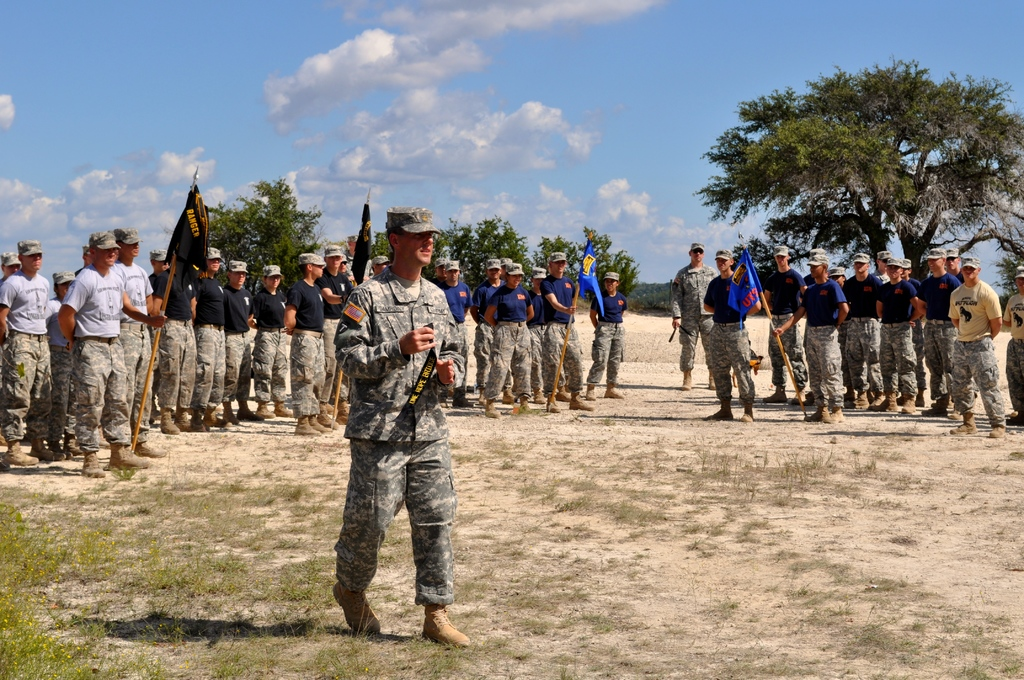Tree: (727, 94, 984, 261), (367, 208, 535, 283), (193, 185, 314, 276), (537, 229, 645, 293)
